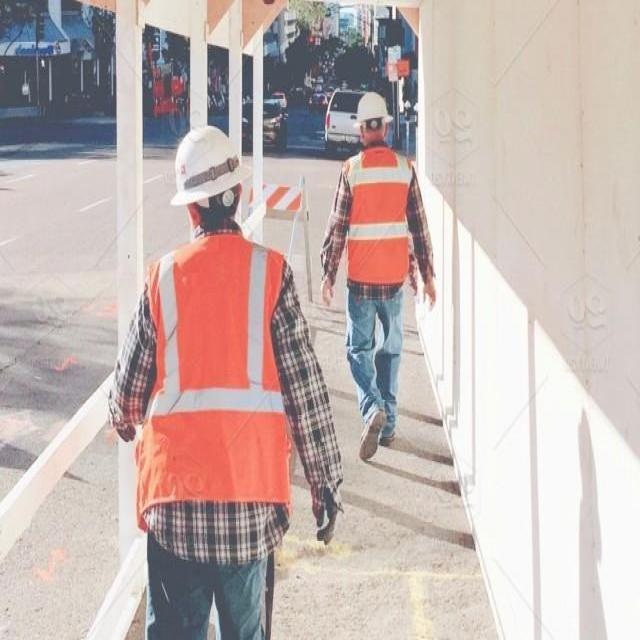reflective_jacket: (129, 233, 298, 526), (339, 145, 416, 288)
safety_helmet: (167, 118, 249, 213), (352, 87, 393, 126)
